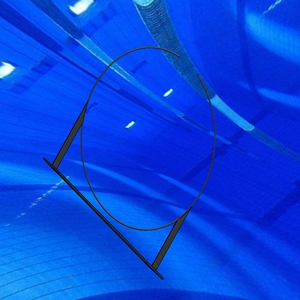circle: (42, 45, 219, 281)
